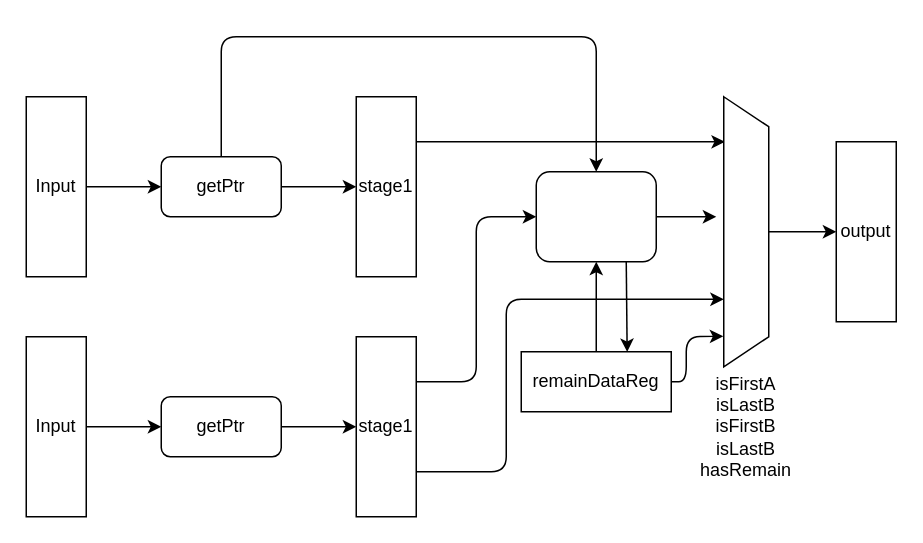
Some shapes in this 923 by 543 pixel diagram are drawn without their labels. Here are the shapes that lost their labels. From the top down, the centre of each, then its label:
At point 595,216: "Concat".
At point 745,231: "mux".
